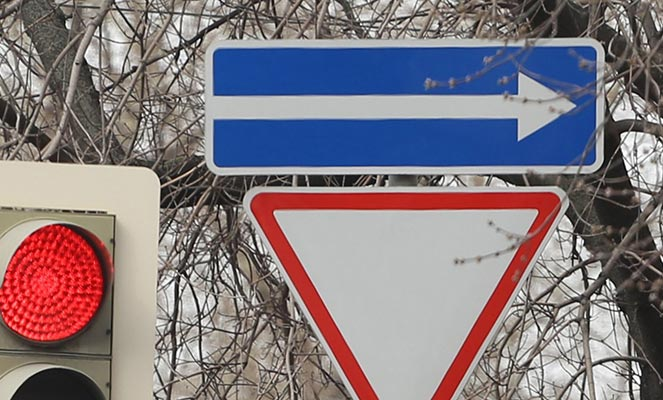One-Way Traffic: (206, 42, 600, 172)
